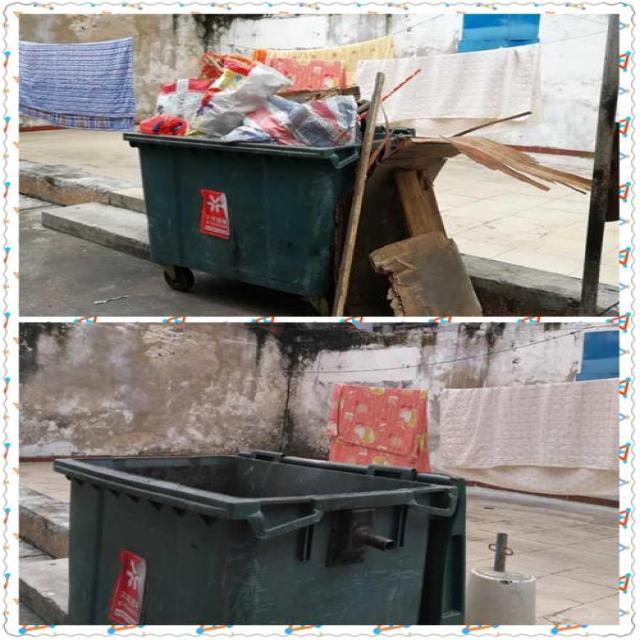garbage_bin: (54, 449, 463, 623)
overflow: (120, 47, 456, 291)
